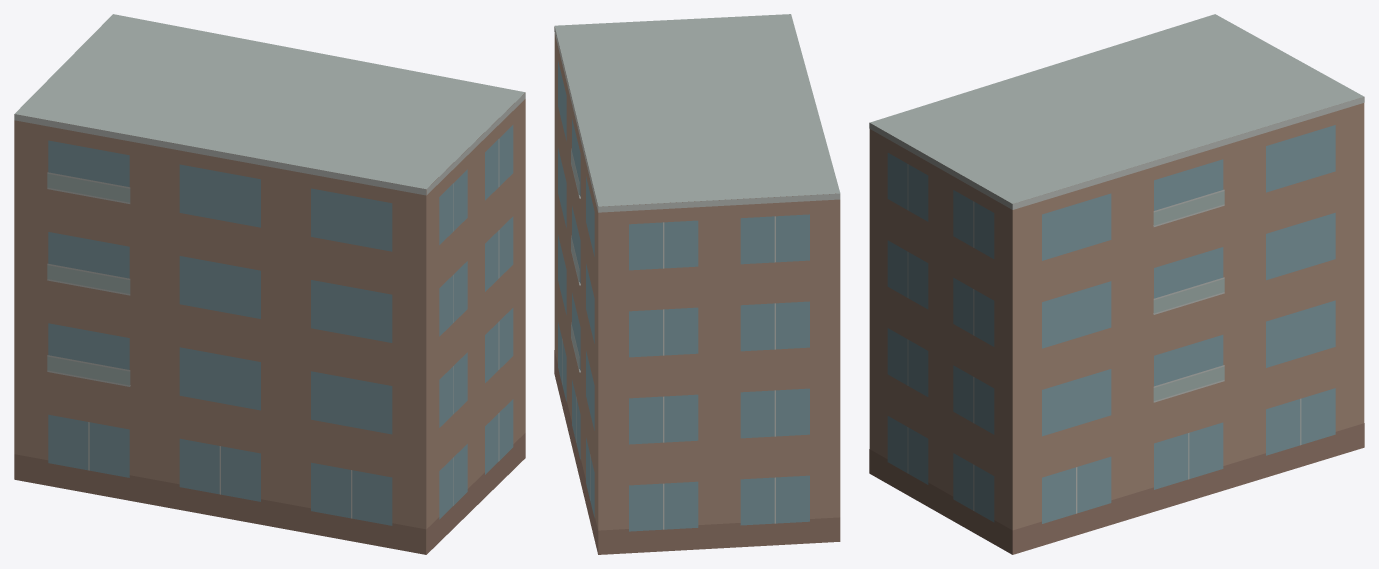
The model's file is survey-upis-32663523.glb.
The picture shows the model from 3 angles, left to right: view 1: azimuth 30°, elevation 25°; view 2: azimuth 150°, elevation 25°; view 3: azimuth 270°, elevation 25°; orthographic projection. The views are drawn at different scales.
Parts seen in each view (by area): view 1: survey-upis-32663523.tmp; view 2: survey-upis-32663523.tmp; view 3: survey-upis-32663523.tmp.
Boxes of the visible parts, x1,y1,x2,y2 form: survey-upis-32663523.tmp: (14,14,525,554); survey-upis-32663523.tmp: (554,14,840,554); survey-upis-32663523.tmp: (869,14,1364,554).
Bounding box in the file's own units: 16.46 × 14.17 × 18.12.
